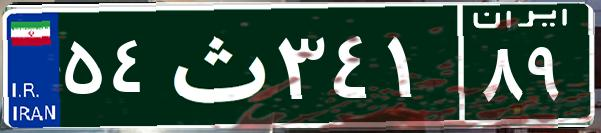1: (385, 28, 445, 110)
3: (273, 28, 330, 110)
4: (330, 28, 385, 110), (110, 28, 158, 105)
5: (57, 26, 110, 107)
8: (475, 38, 525, 113)
9: (525, 38, 570, 115)
ث: (158, 15, 273, 115)
